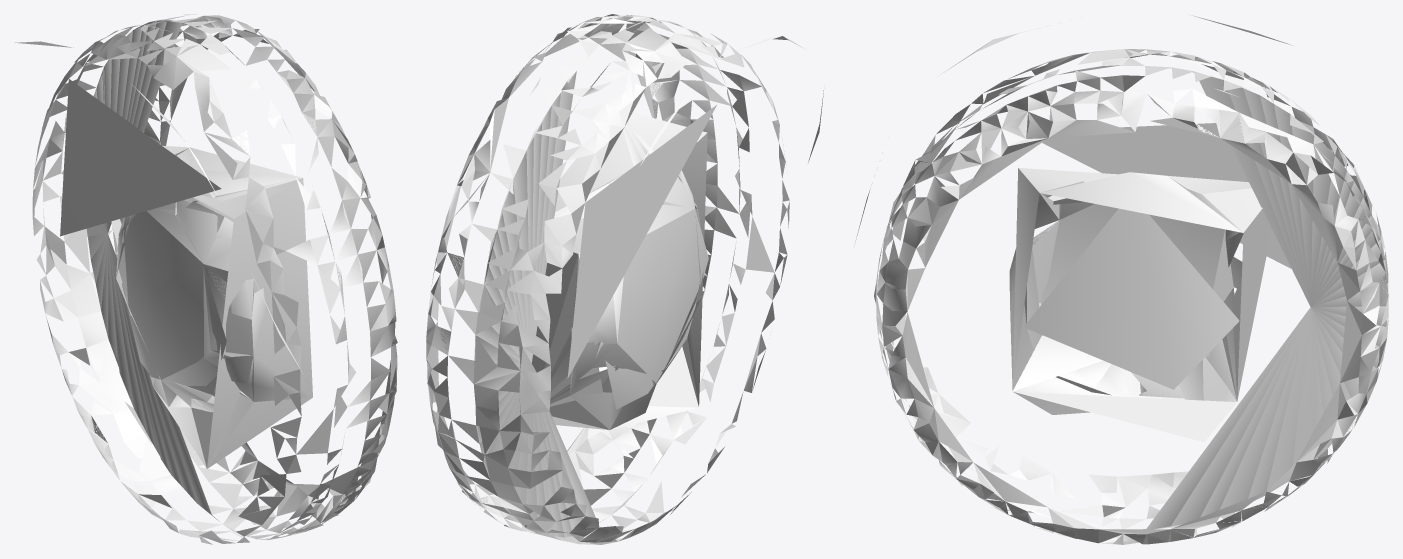
3 views of the same model, side by side, from view 1: azimuth 30°, elevation 25°; view 2: azimuth 150°, elevation 25°; view 3: azimuth 270°, elevation 25° (orthographic). The views are drawn at different scales.
Bounding box in the file's own units: 0.2408 × 0.5989 × 0.6254.
Materials: 1 (1 with a texture image).
